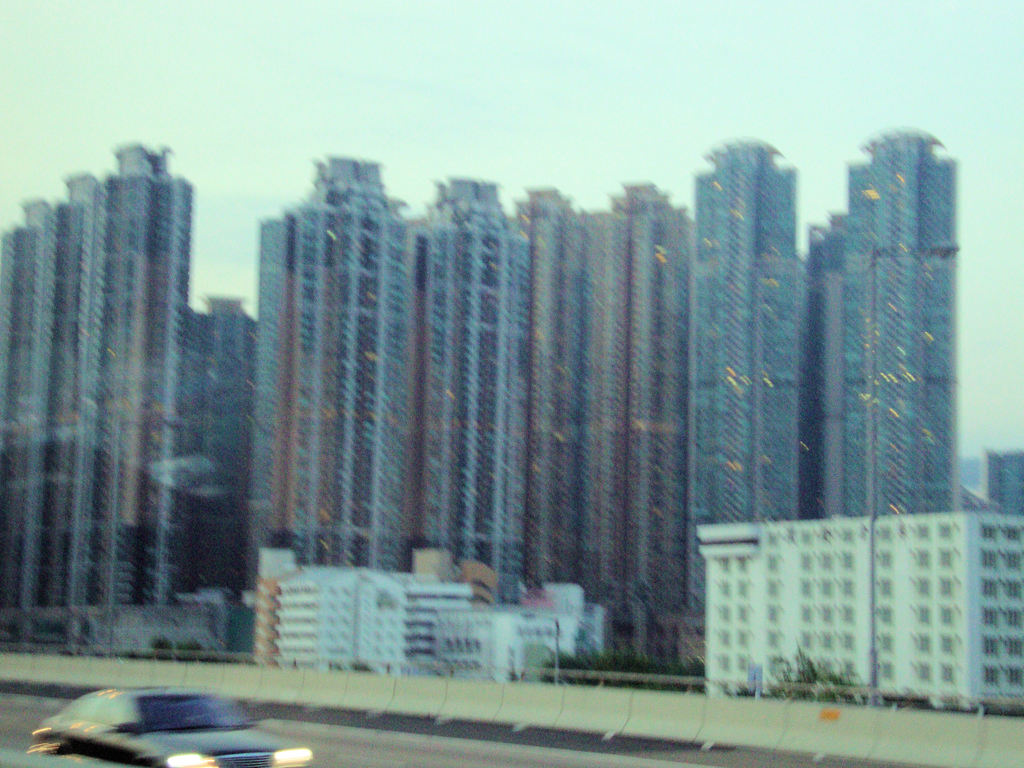Car: (35, 681, 318, 767)
